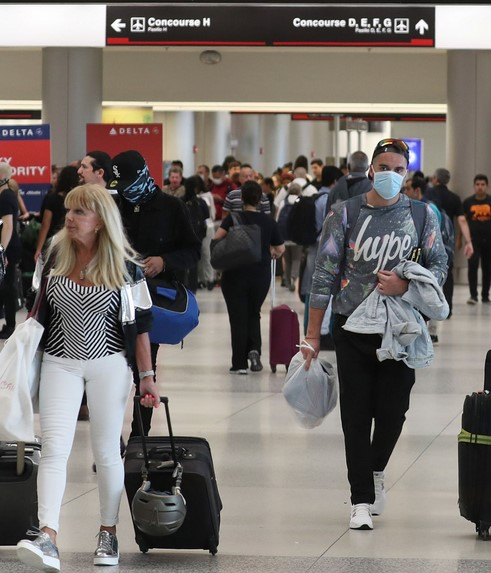face_no_mask: (60, 183, 114, 247), (73, 153, 112, 194), (473, 172, 491, 198)
face_with_mask: (367, 141, 411, 204)
